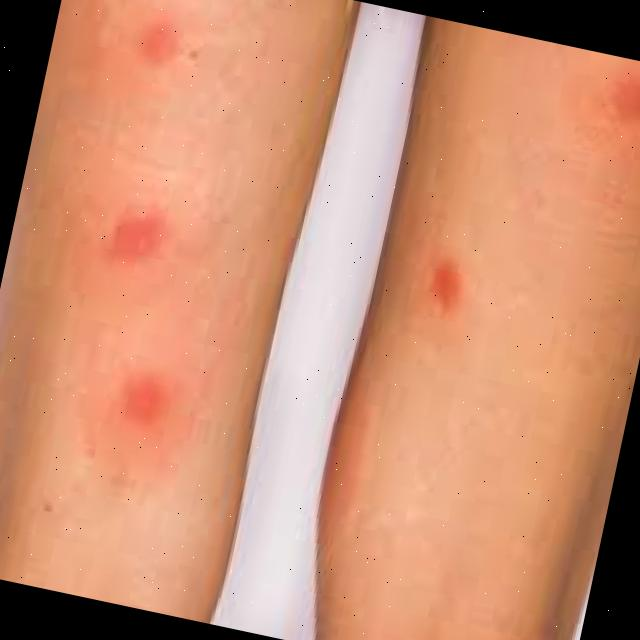kan emici bocekler: (102, 362, 191, 443), (104, 195, 184, 281), (125, 13, 203, 92), (418, 250, 486, 327), (595, 67, 640, 154)
